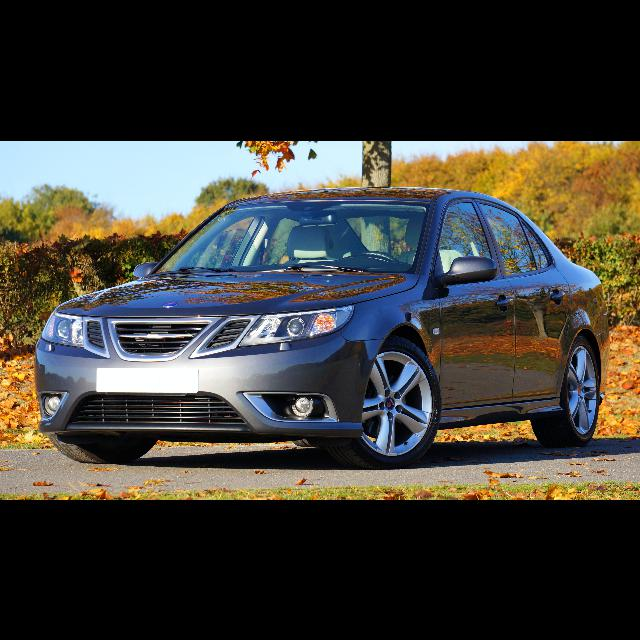cars: (33, 183, 615, 472)
